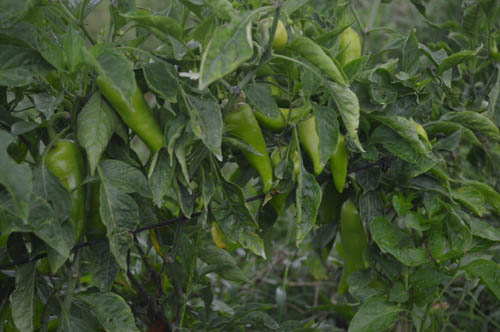ChiliPepper: (221, 100, 272, 192), (100, 77, 164, 150), (43, 143, 85, 214), (338, 205, 367, 282), (300, 116, 328, 173), (249, 105, 313, 128), (328, 132, 349, 189), (335, 30, 363, 63)
